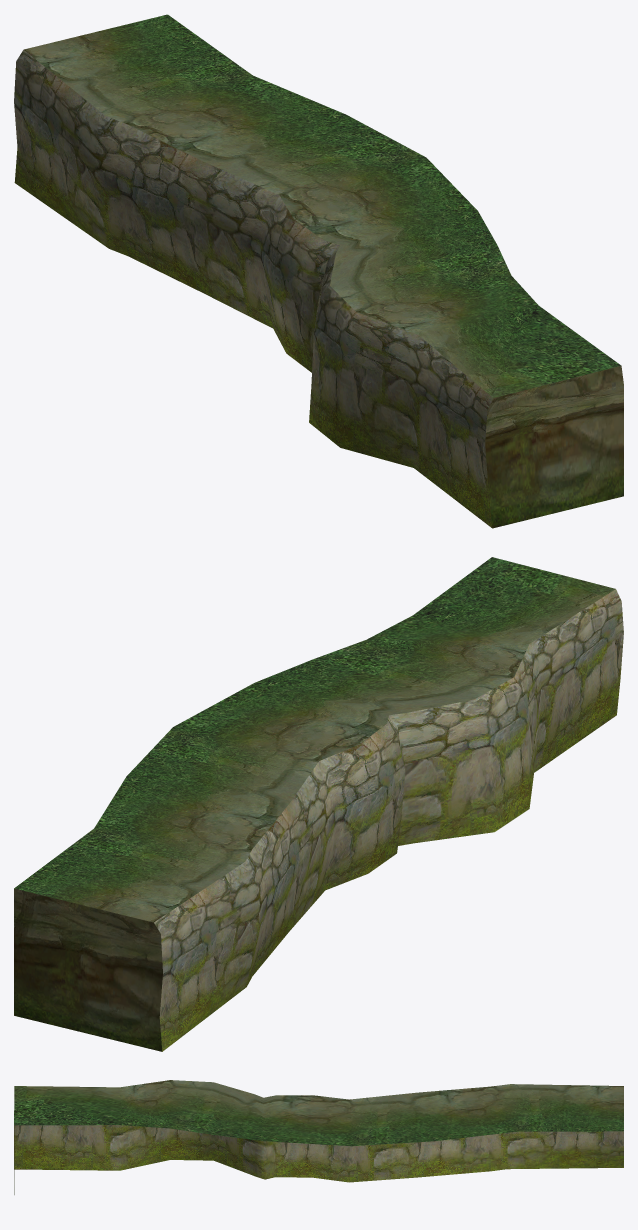
The model's file is Dingqingchuan_wujian_07_1.FBX.
3 renders of one model, top to bottom at view 1: azimuth 30°, elevation 25°; view 2: azimuth 150°, elevation 25°; view 3: azimuth 270°, elevation 25°, orthographic. The views are drawn at different scales.
Parts seen in each view (by area): view 1: Object007; view 2: Object007; view 3: Object007.
Boxes of the visible parts, x1=… form: Object007: x1=14, y1=14, x2=623, y2=528; Object007: x1=14, y1=557, x2=623, y2=1051; Object007: x1=14, y1=1080, x2=623, y2=1194.
Bounding box in the file's own units: 7.63 × 4.24 × 27.56.
